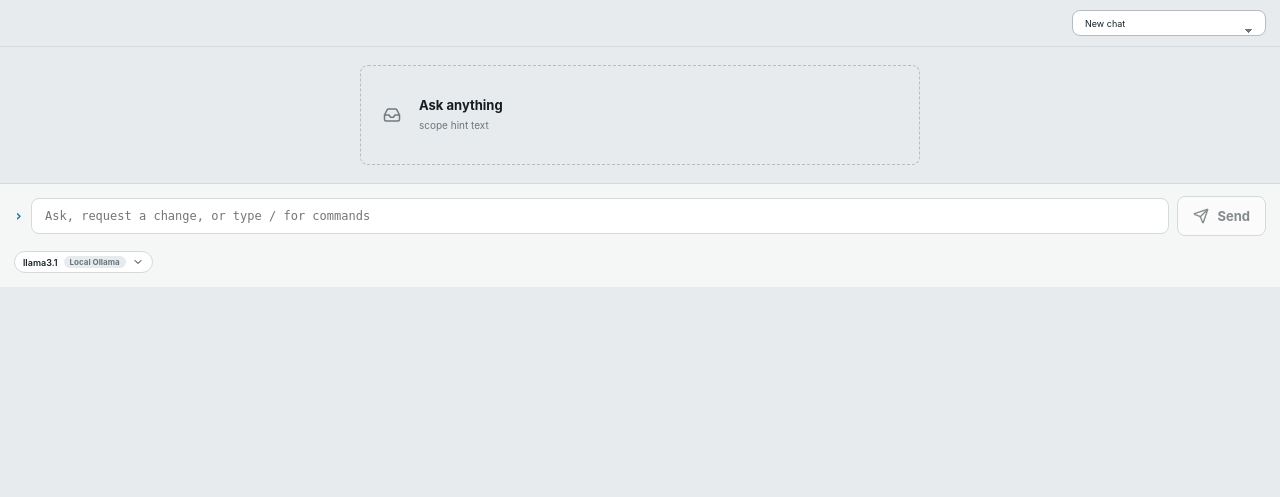
Scenario: warns when the chosen model has no tool support
The image size is (1280, 497).
Click the button with aria-label "Model:". click: (83, 262)
box: [14,251,153,273]
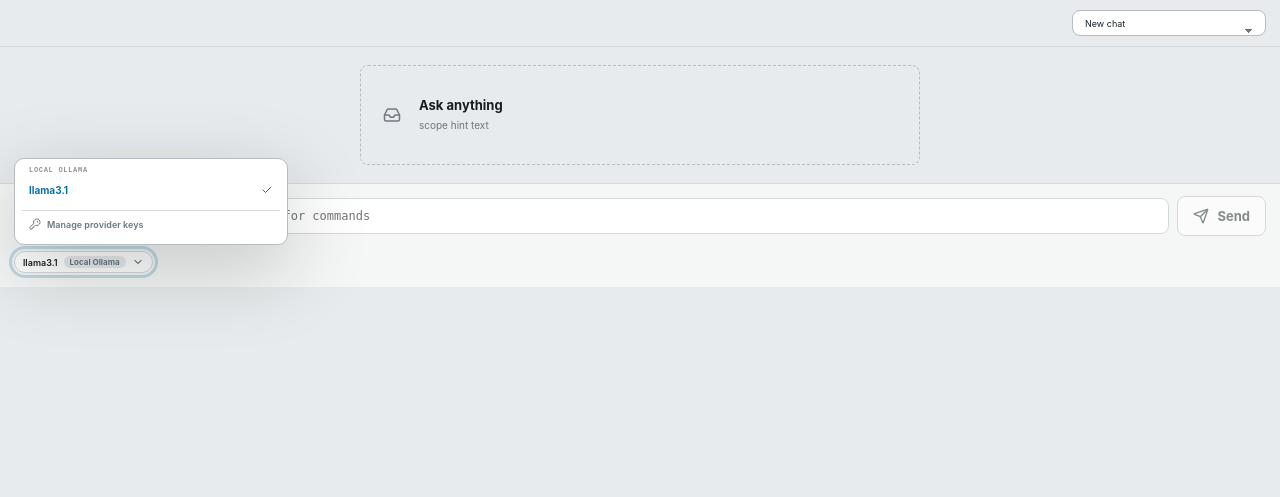
Click the menu item "llama3.1". click: (151, 190)
box: [22,178,280,202]
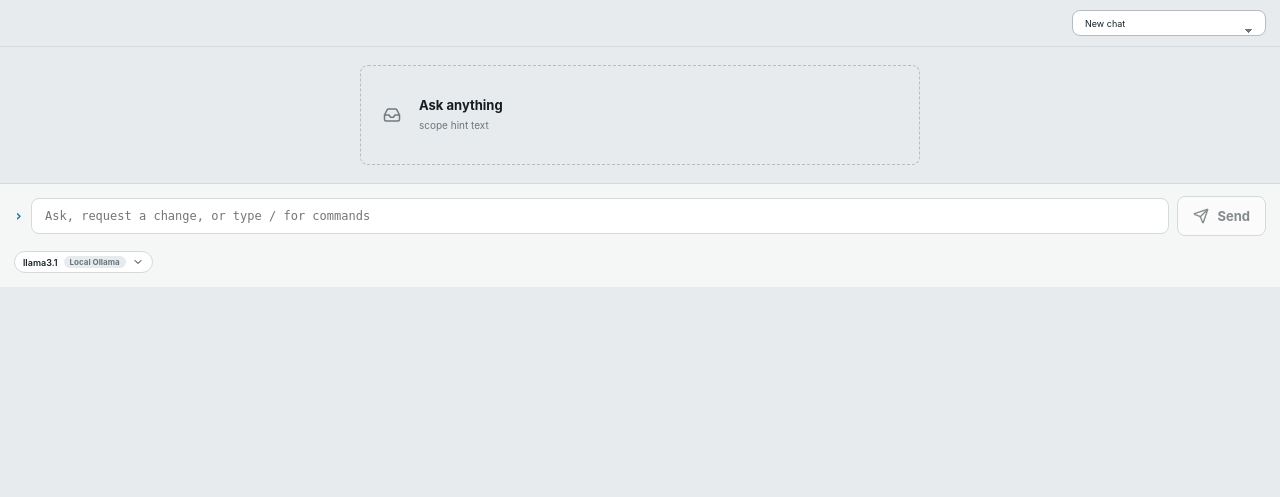
Type "hello" into the field named "Message". click: (600, 216)
box: [31,198,1169,234]
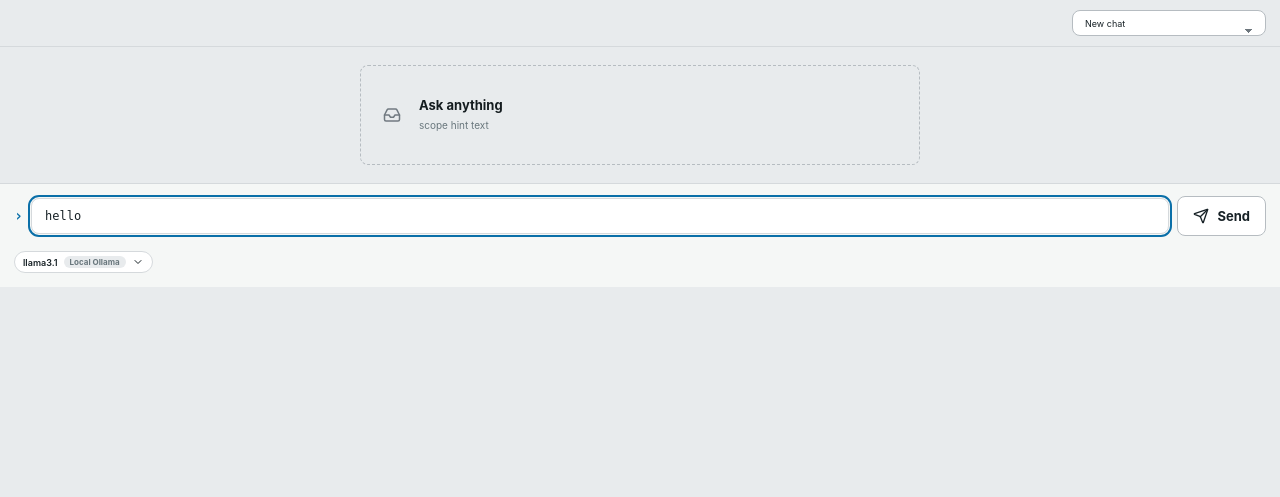
Click the button "Send". click: (1222, 216)
box: [1178,196,1266,236]
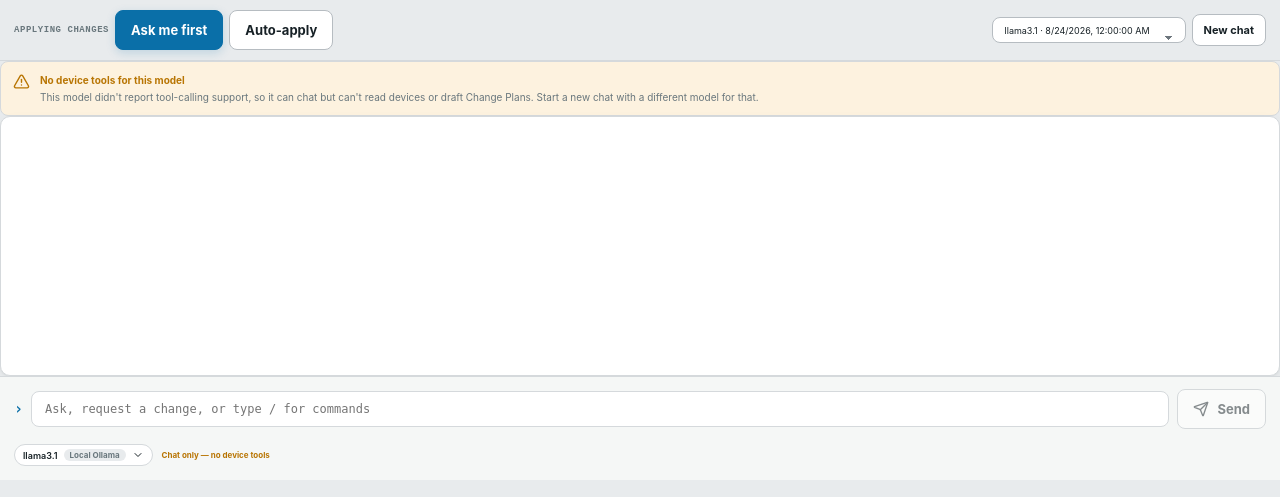
Now the text "No device tools for this model" is shown, box [40,74,185,86]
